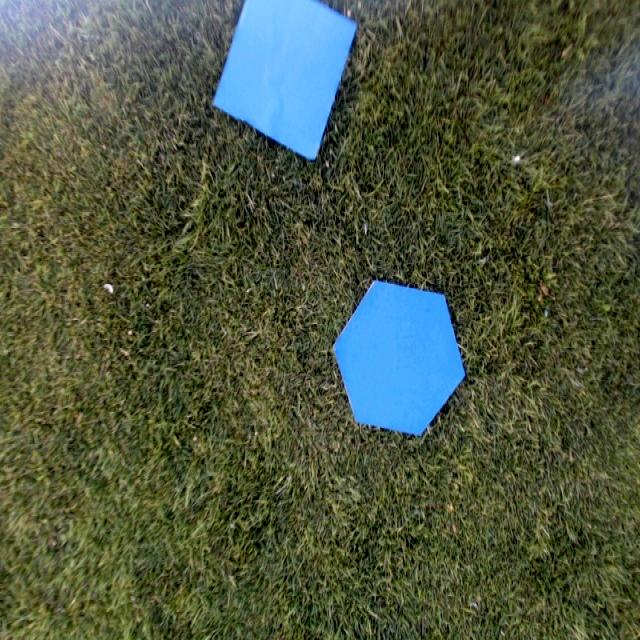blue_hexagon: (332, 277, 466, 434)
